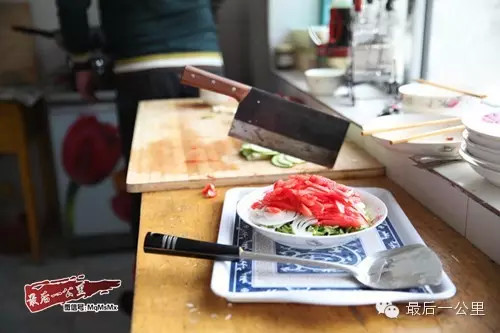knief: (174, 62, 382, 170)
